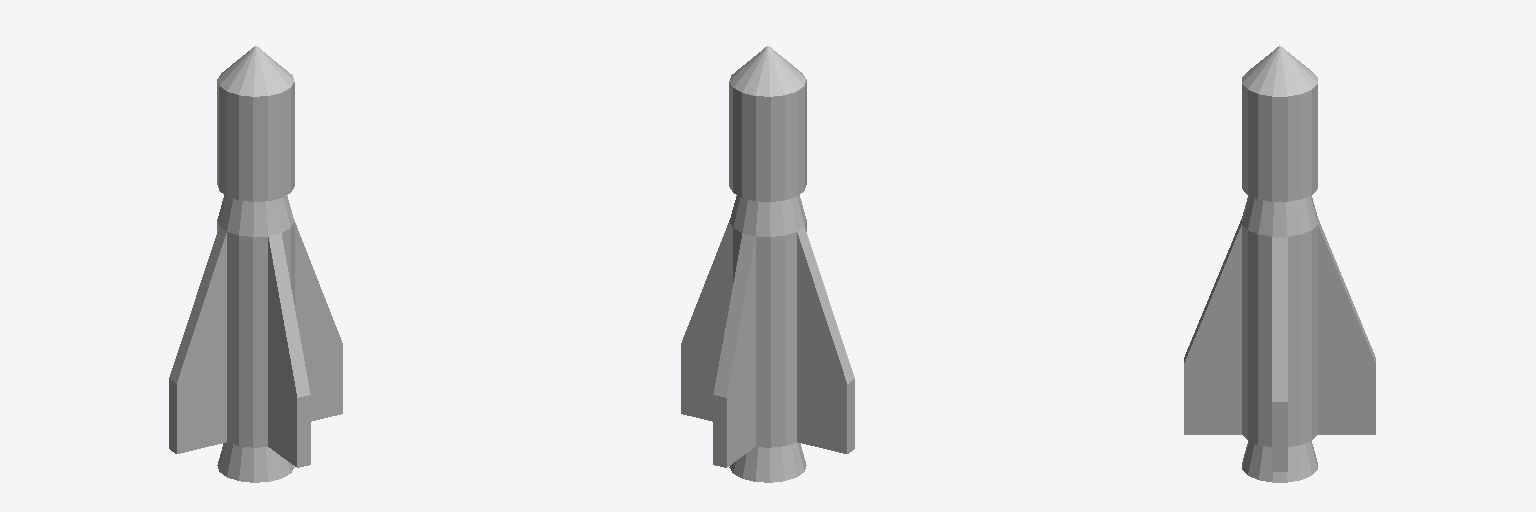
The model's file is MissileNuke.obj.
3 renders of one model, left to right at view 1: azimuth 30°, elevation 25°; view 2: azimuth 150°, elevation 25°; view 3: azimuth 270°, elevation 25°, orthographic.
Visible parts, largest first — view 1: Cylinder; view 2: Cylinder; view 3: Cylinder.
Part boxes in pixels (x1,y1,x2,y2): Cylinder: (169, 46, 342, 482); Cylinder: (681, 46, 854, 482); Cylinder: (1184, 46, 1375, 482).
Size of the model in its own units: 2.48 by 6 by 2.48.